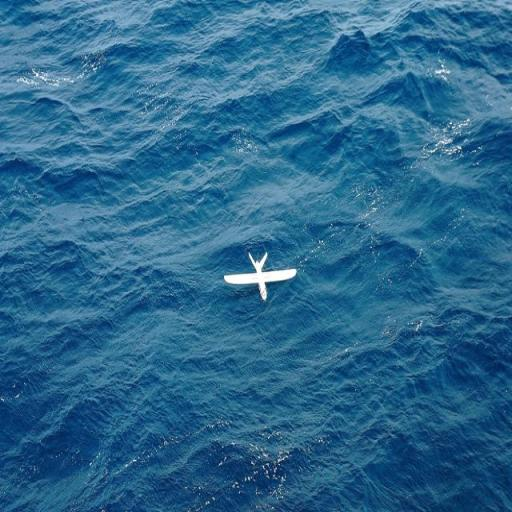uav: (223, 247, 301, 314)
